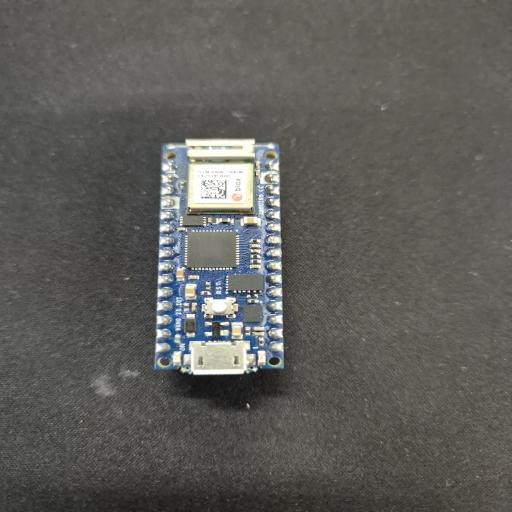arduino-nano-iot-33: (155, 139, 283, 374)
